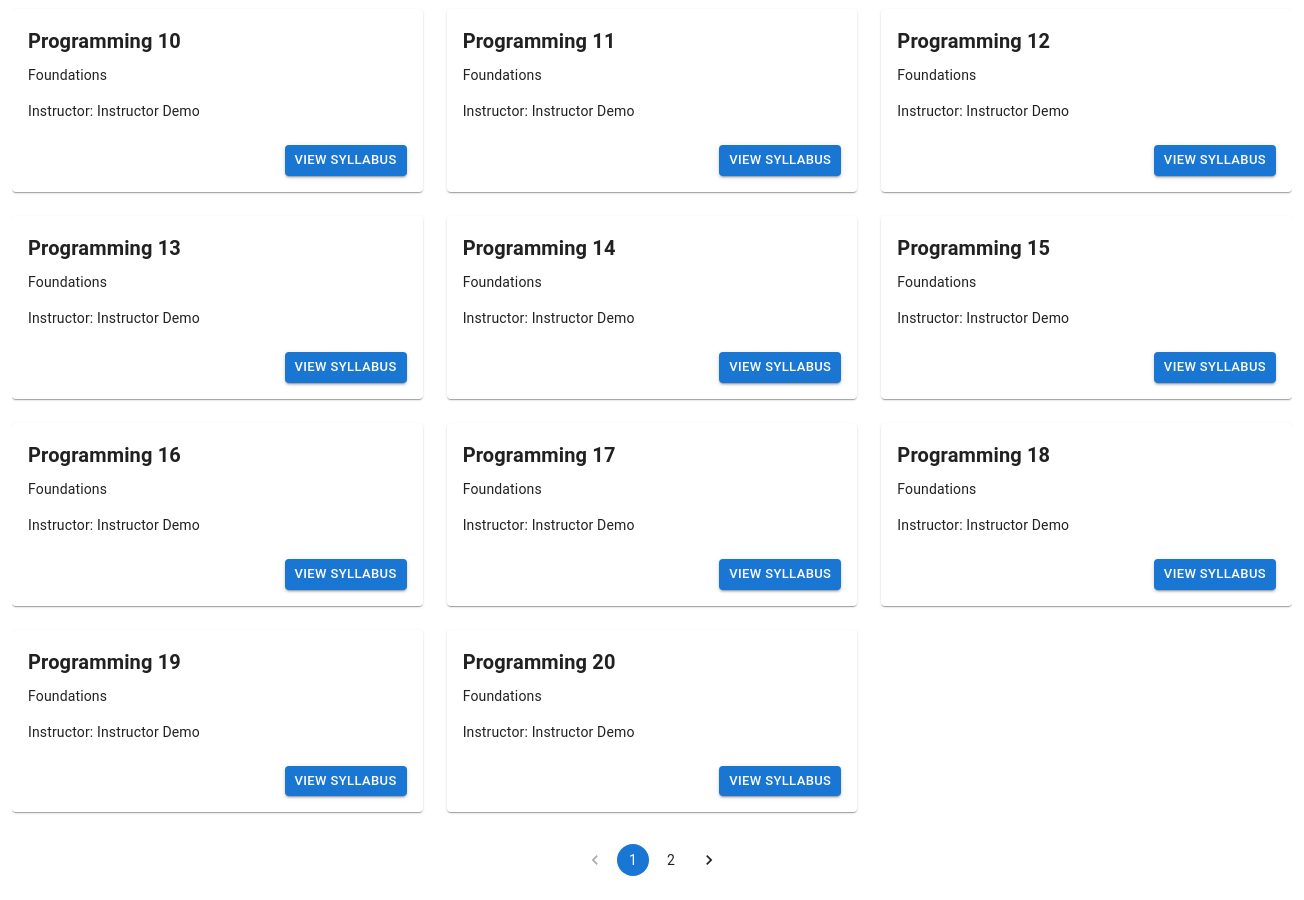
Test: cancels catalogue recovery and ignores its late result after filters change
(page scrolled)
Click the button named "Go to page 2". click: {"x": 671, "y": 860}
box: [655,844,687,876]
(page scrolled)
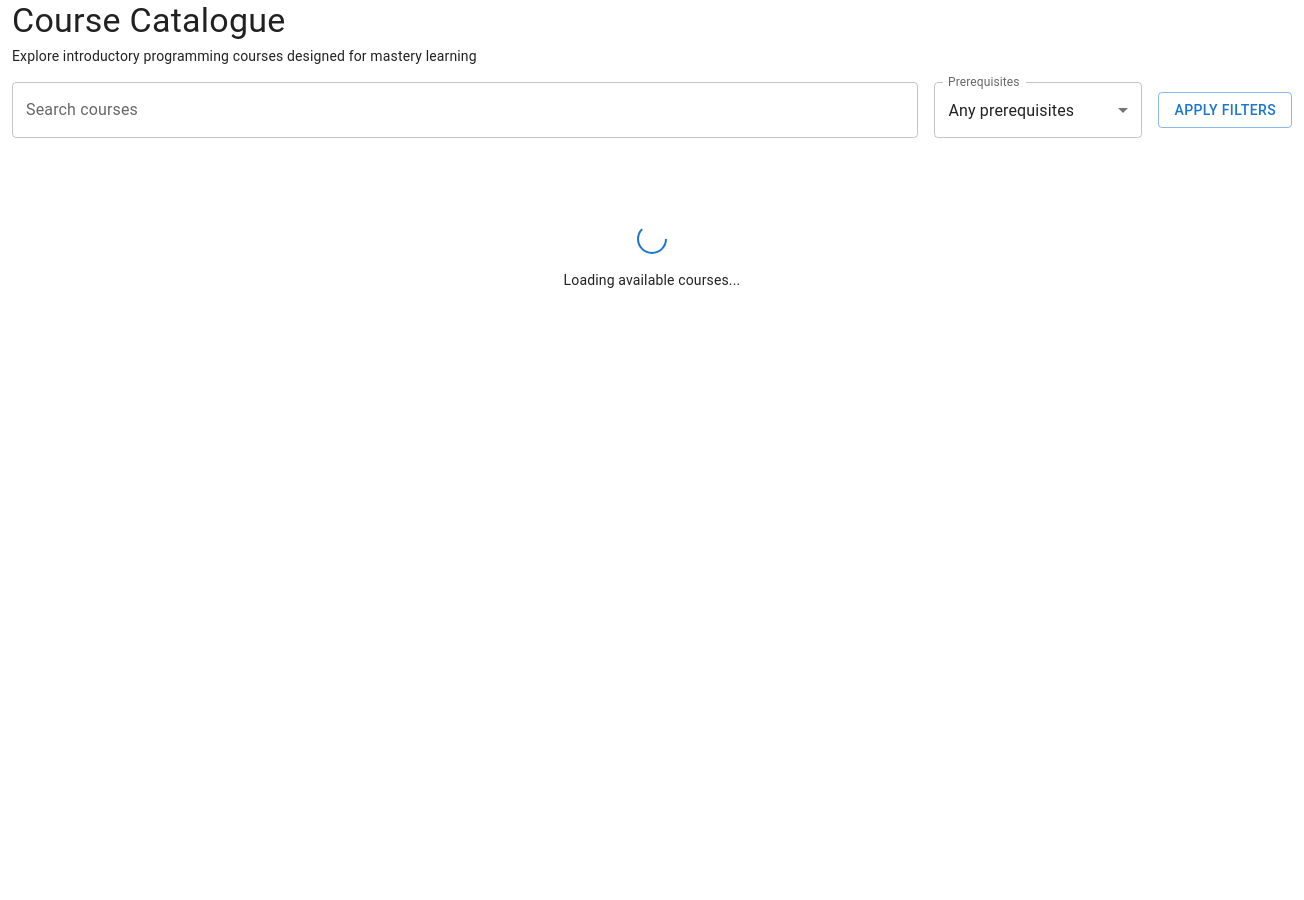
Submit the form, box [12,82,1292,138]
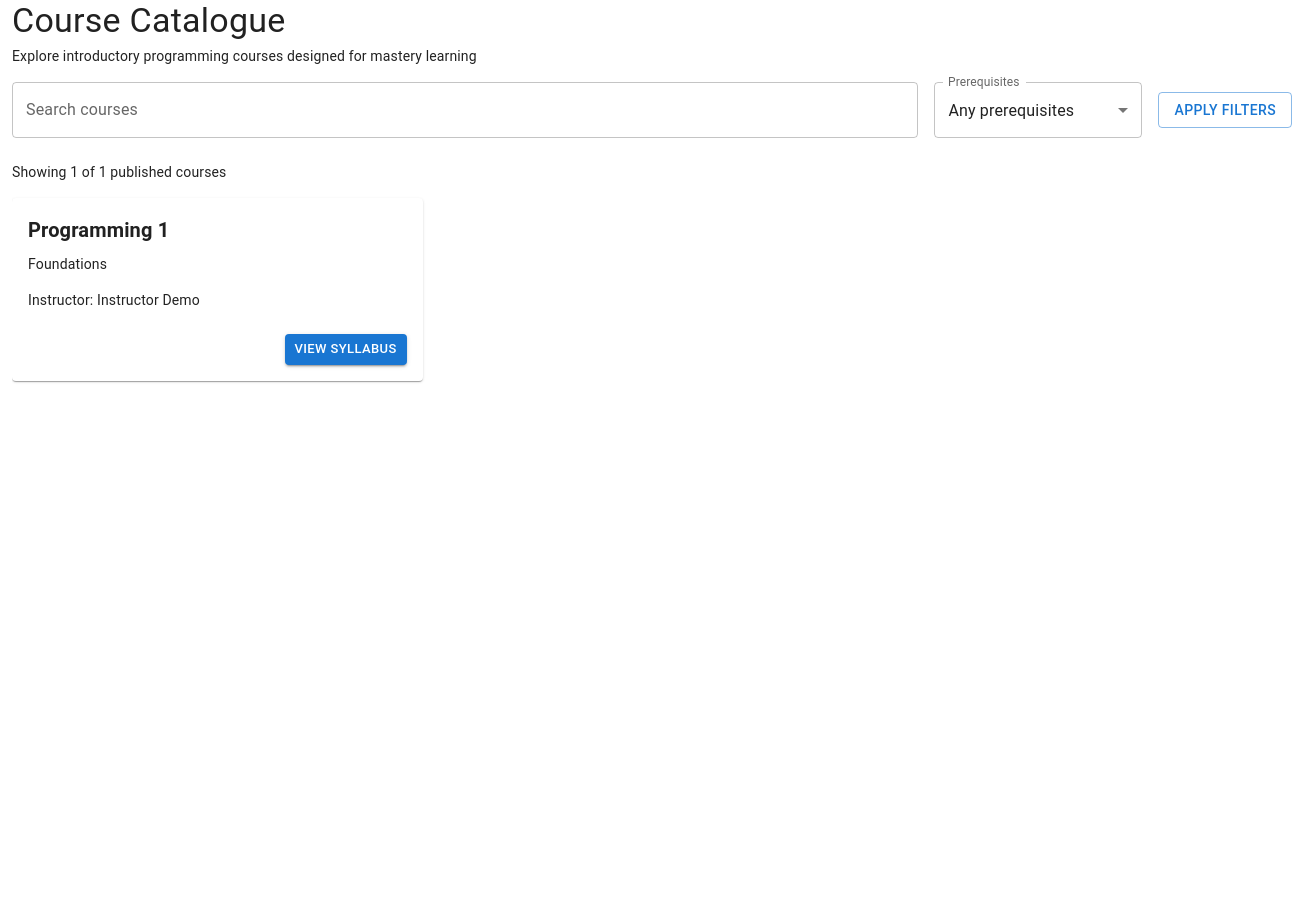
Expected: the text "Showing 1 of 1" is shown, [12,164,226,180]
